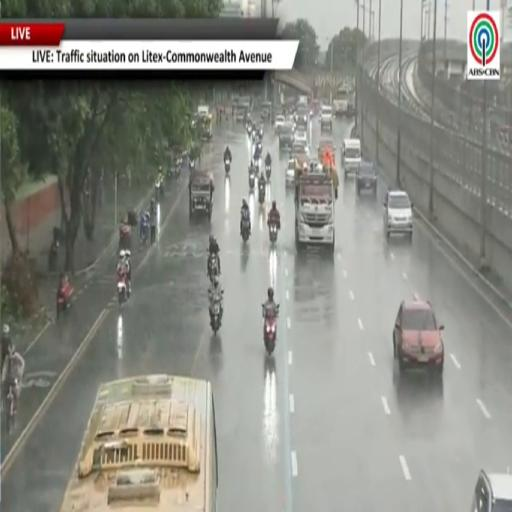bus: (61, 375, 217, 511)
car: (393, 298, 444, 376), (471, 470, 511, 511), (384, 190, 413, 241), (356, 163, 377, 196), (279, 123, 293, 150), (291, 135, 309, 155), (286, 158, 296, 186), (291, 140, 309, 155), (274, 114, 285, 135), (295, 131, 307, 145)
jeepney: (189, 170, 213, 219), (197, 104, 212, 141), (318, 138, 335, 162), (200, 115, 212, 140), (261, 102, 272, 121)
motorcycle: (262, 304, 279, 355), (5, 379, 18, 435), (57, 281, 73, 317), (210, 295, 221, 334), (119, 222, 131, 250), (117, 276, 128, 306), (48, 239, 58, 271), (209, 253, 218, 282), (140, 216, 149, 245), (241, 219, 250, 243), (269, 222, 278, 244), (258, 182, 265, 204), (155, 181, 163, 200), (255, 141, 262, 158), (249, 172, 255, 190), (265, 165, 271, 180), (247, 123, 253, 136), (225, 159, 230, 174), (189, 159, 195, 170), (258, 128, 263, 138), (252, 130, 257, 140)
truck: (295, 173, 335, 252), (333, 86, 350, 117), (321, 105, 332, 132), (297, 95, 308, 107)
